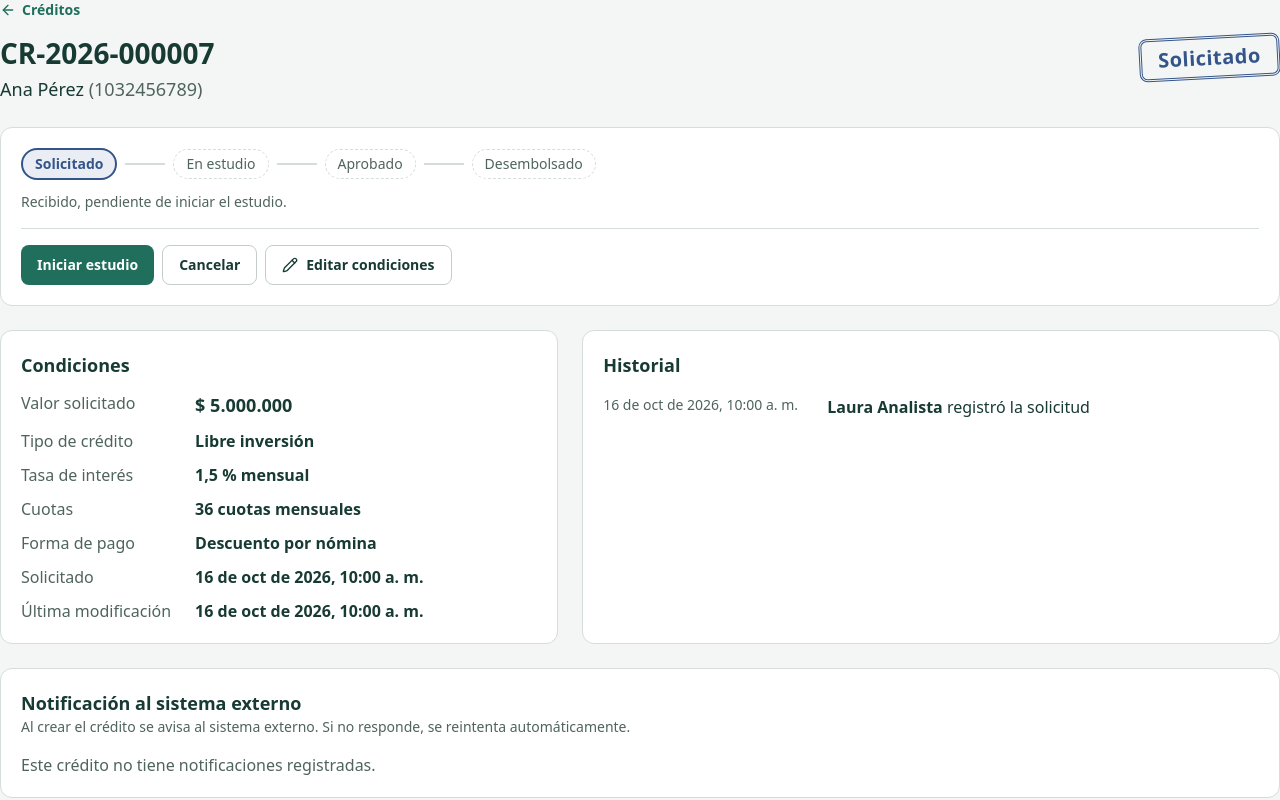
DetalleCreditoPage › si otra persona guardó primero (412), avisa y recarga la versión más reciente
The width and height of the screenshot is (1280, 800).
Step 1. Click the button "Editar condiciones" → (358, 265), box [265,245,452,285]
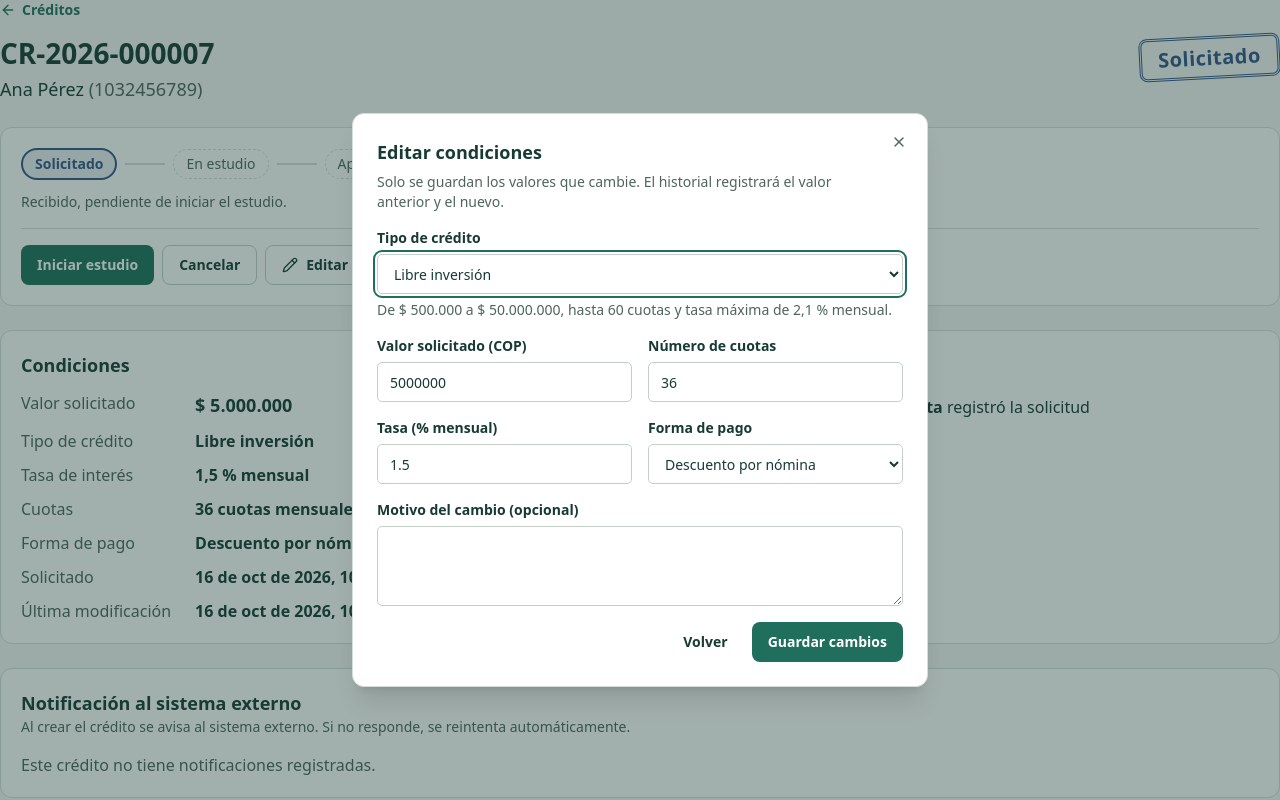
Step 2. Replace the text in the number field labelled "Valor solicitado (COP)" with "6000000" → (504, 382), box [377,362,632,402]
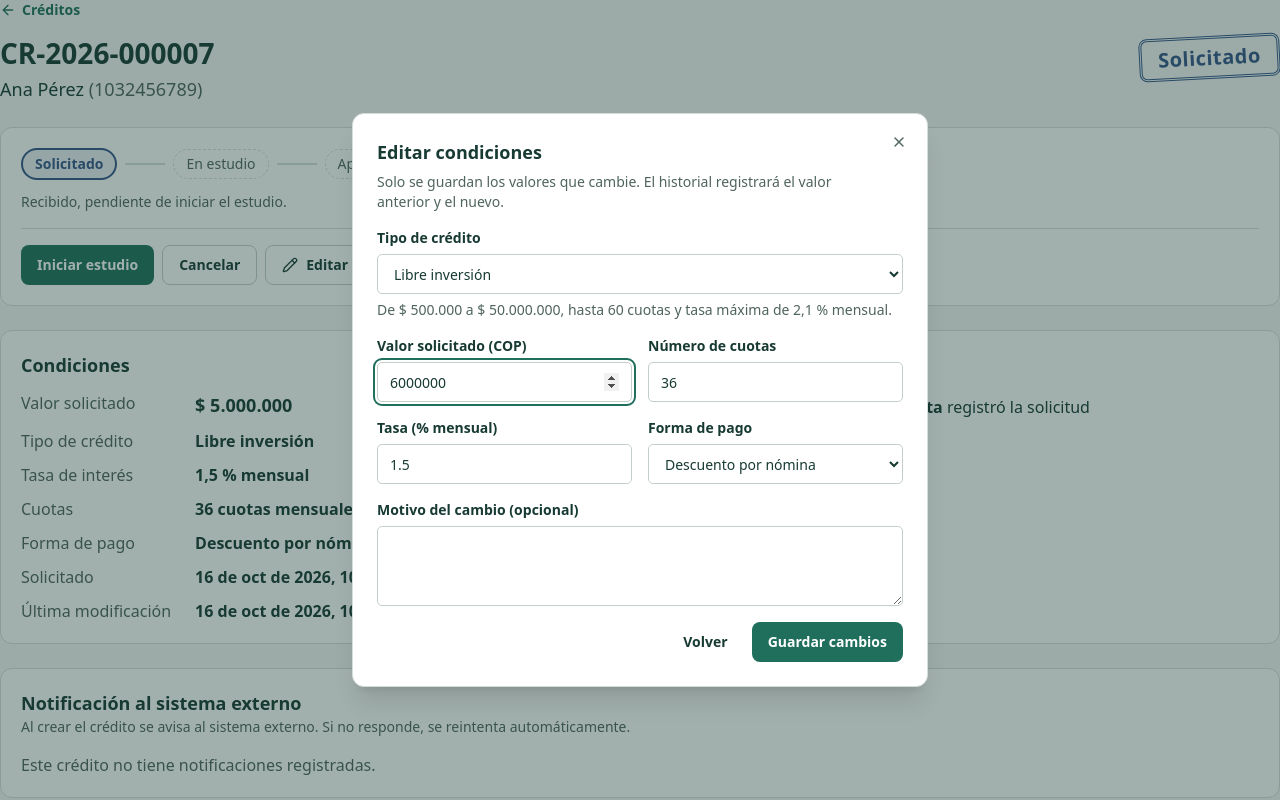
Step 3. Click the button "Guardar cambios" → (827, 642), box [752,622,903,662]
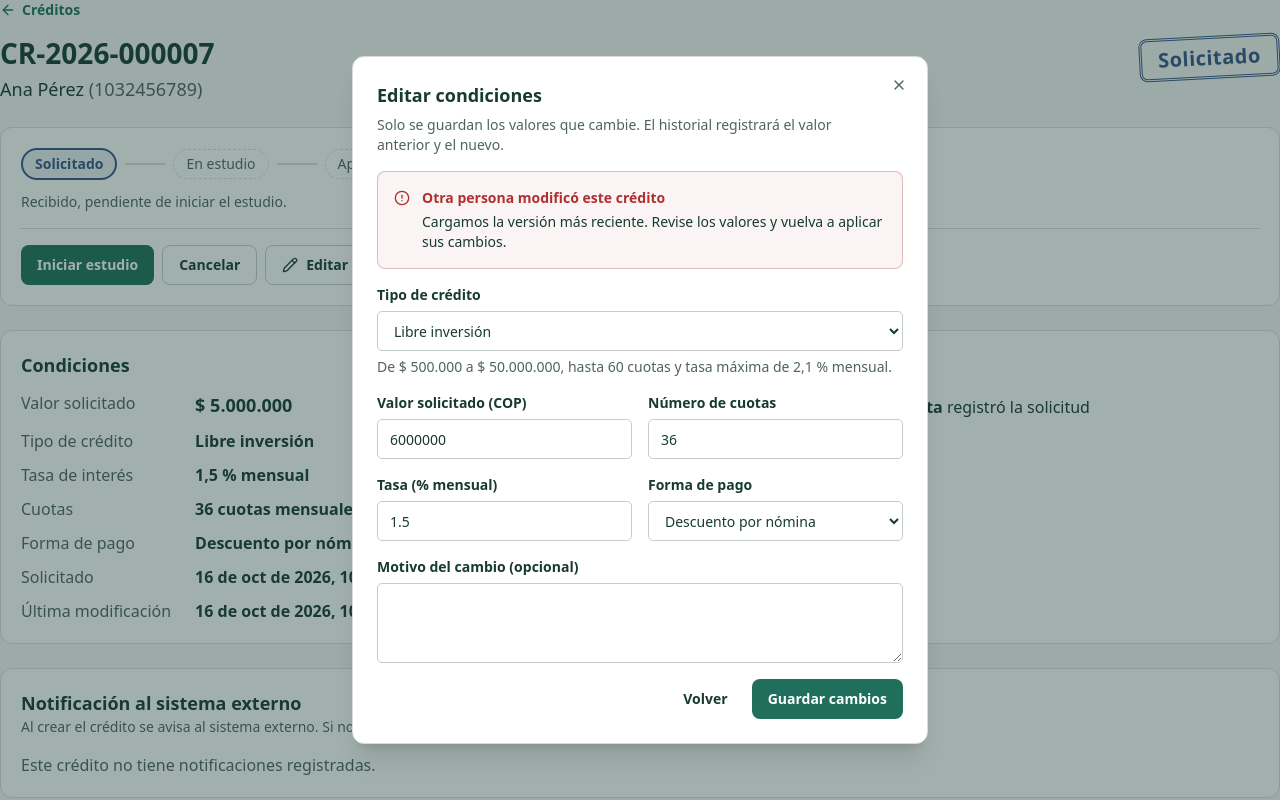
Check: the text "Otra persona modificó este crédito" is shown, box [422,188,665,207]
